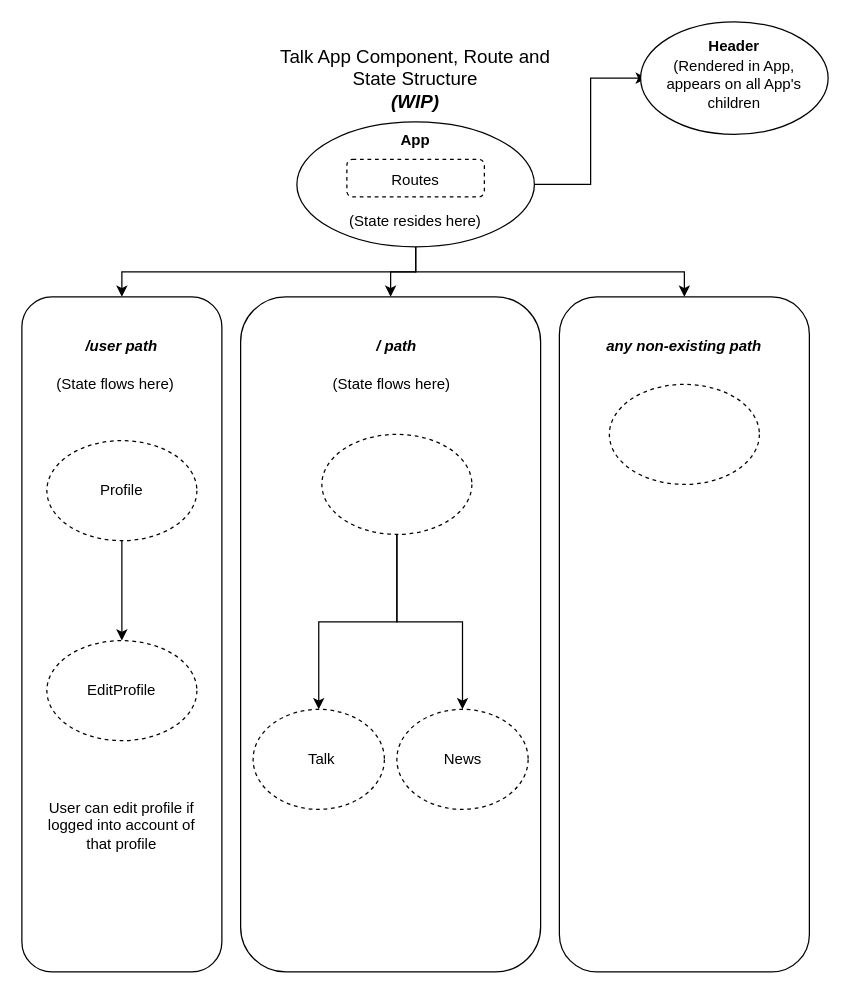
Image size: 850x994. Some labels were removed from this diagram. The shapes that lost their labels are listed below. From the top down, each one's centre as x and y in pixels, then its label:
At pixel 683 433: "Error404".
At pixel 396 483: "TalkList".
